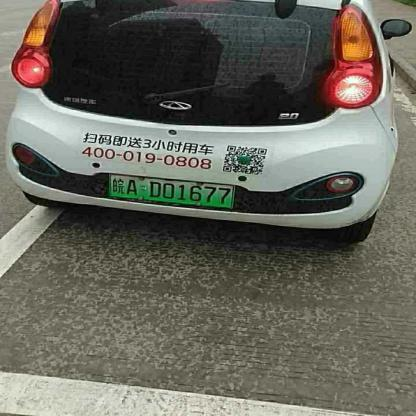lp: (108, 174, 234, 209)
